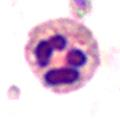neutrophil: (25, 17, 105, 93)
